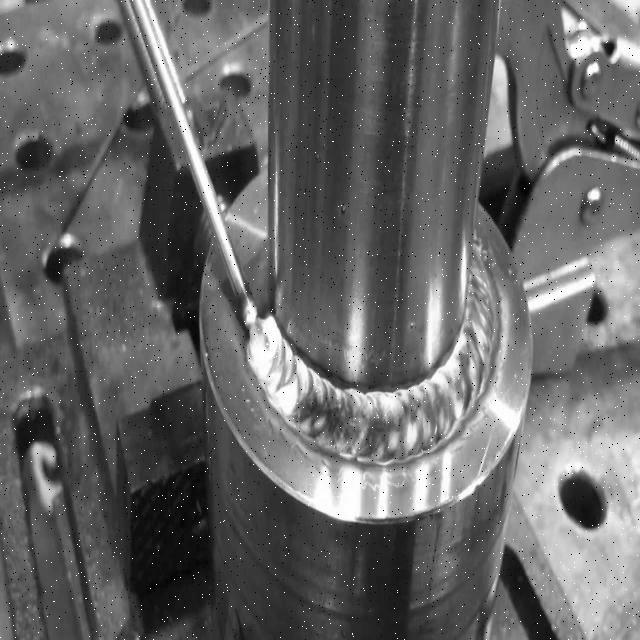Good Welding: (246, 251, 499, 464)
